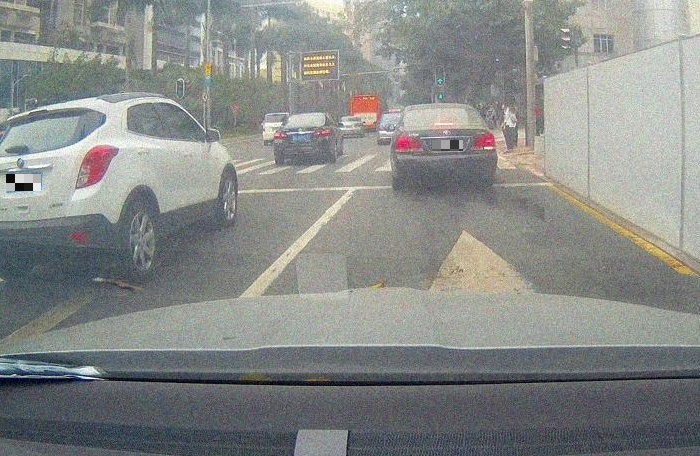L_light: (396, 135, 423, 152), (274, 131, 289, 139)
R_light: (471, 134, 497, 150), (315, 130, 331, 138)
T_light: (434, 122, 453, 126), (300, 115, 312, 117)
day-no: (273, 113, 333, 163)
day-right: (395, 104, 498, 188)
plate_1: (6, 174, 41, 191)
plate_2: (432, 140, 463, 151)
